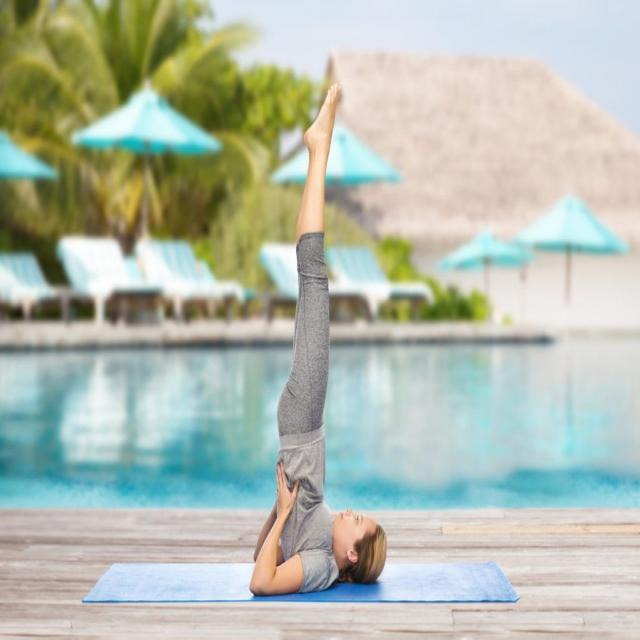yoga-pose downward: (246, 78, 396, 602)
